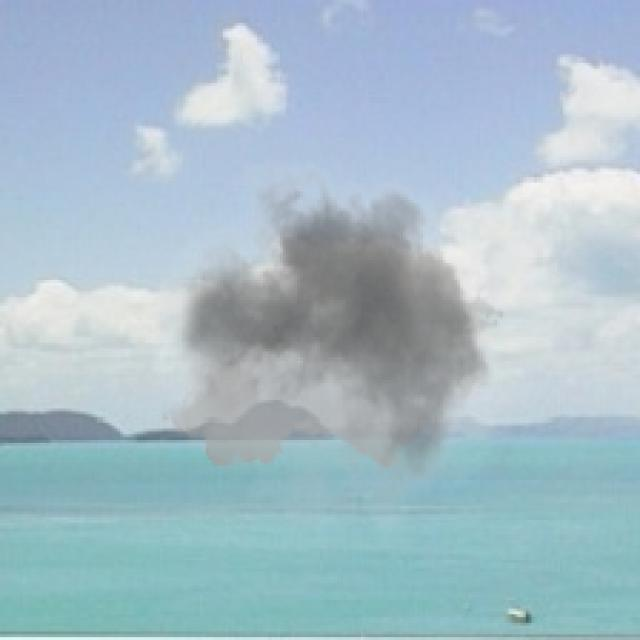Smoke: (148, 139, 518, 552)
